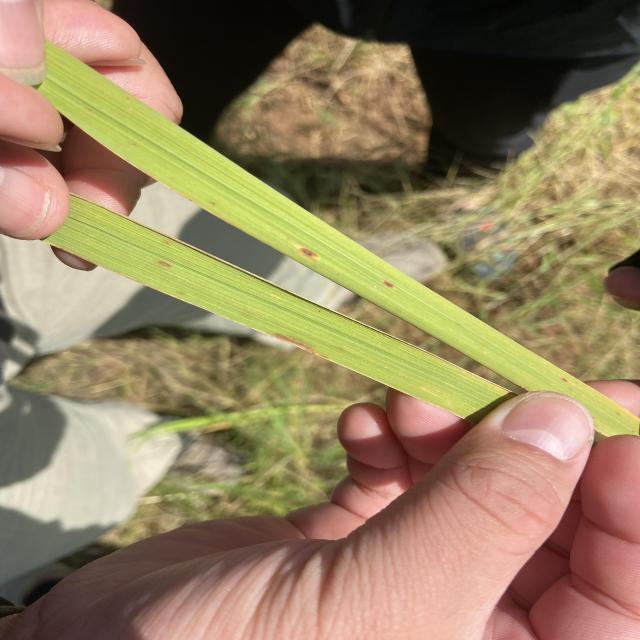Dom nau: (300, 248, 318, 258), (158, 261, 172, 267), (383, 281, 394, 288), (209, 201, 216, 206), (561, 378, 568, 383)
